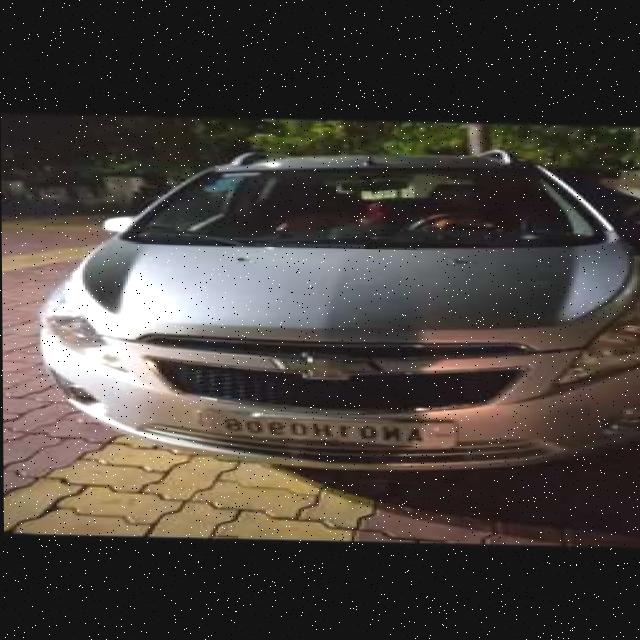plate: (205, 408, 461, 450)
